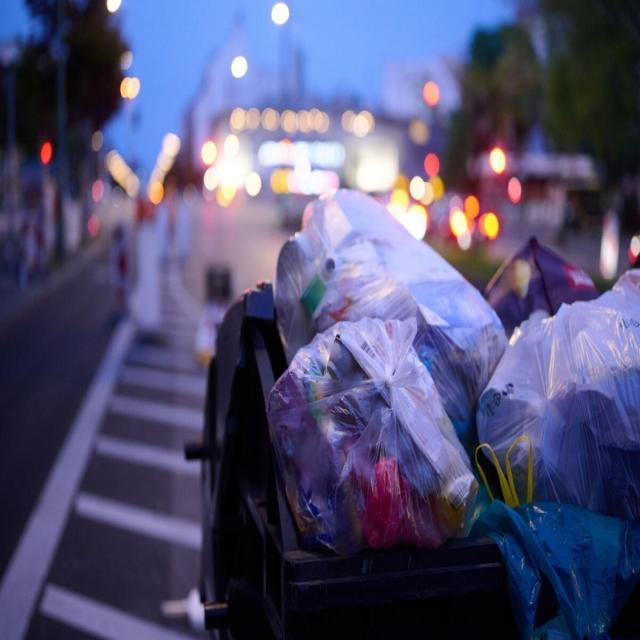garbage: (238, 186, 640, 620)
